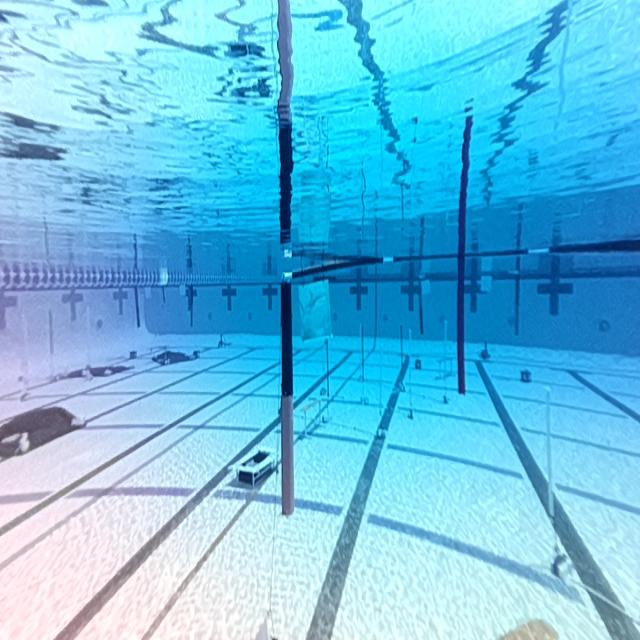round_nose: (298, 281, 330, 341)
